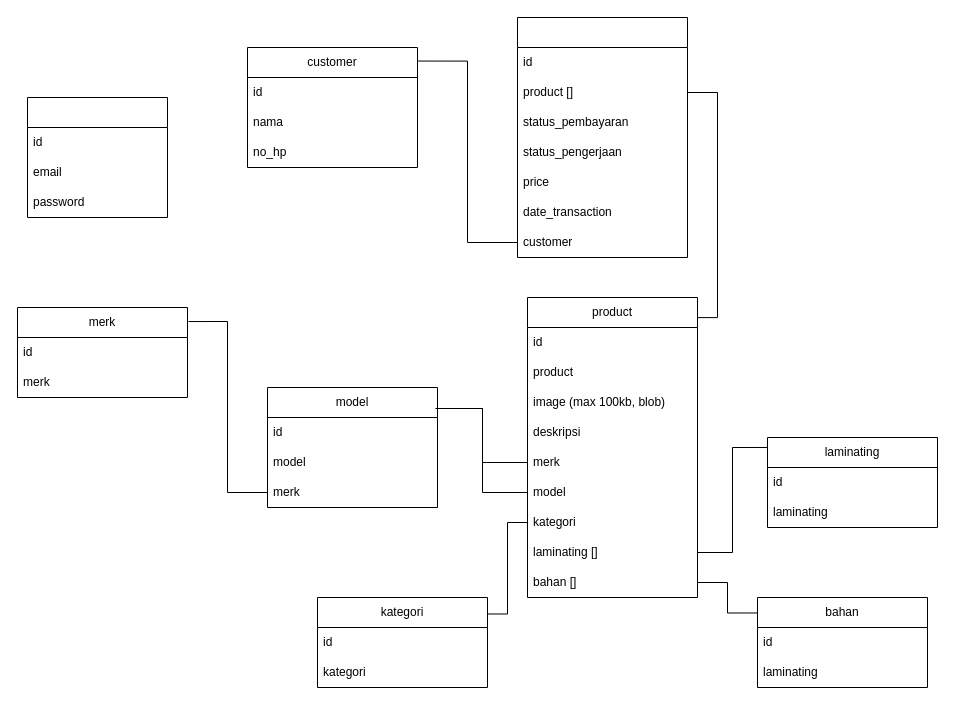
The diagram is 955 pixels wide and 705 high, and some of its shapes have lost their labels. Each missing label, with the box of its shape:
transaksi: (516, 16, 688, 258)
users: (26, 96, 168, 218)
